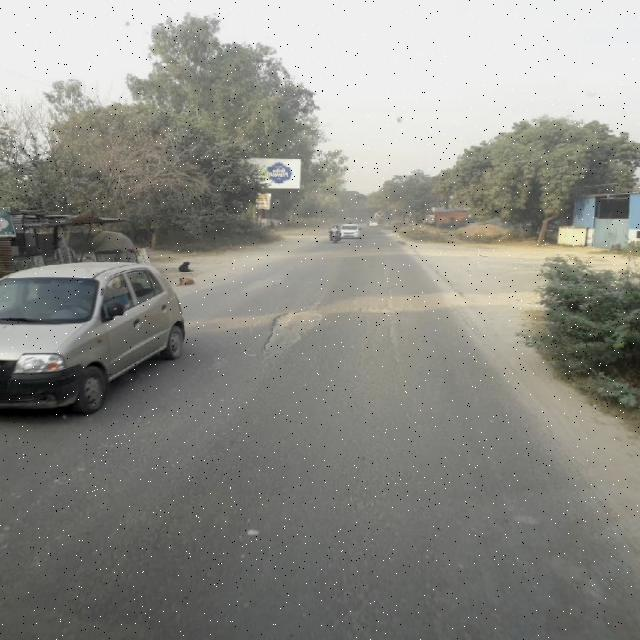D00: (383, 254, 407, 372)
D40: (253, 290, 330, 368), (359, 298, 432, 316)
